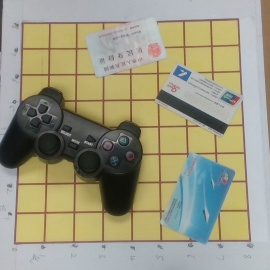card: (160, 152, 235, 247), (155, 62, 243, 139), (84, 15, 167, 77)
remote: (1, 86, 143, 217)
